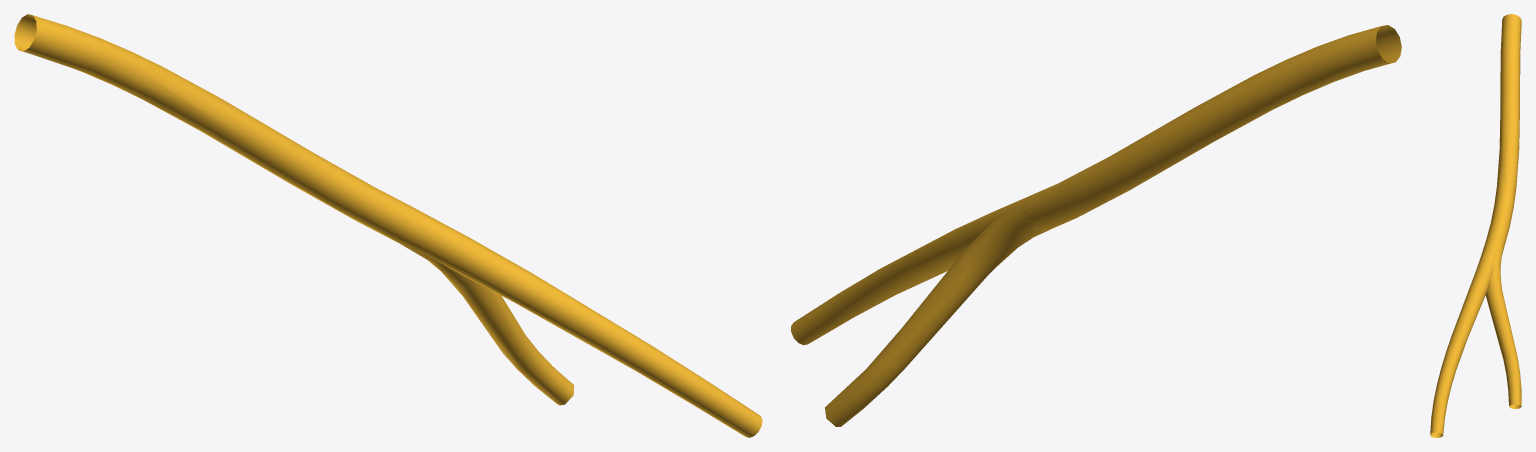
File: nervoso-middle-trunk-of-brachial-plexus-l.glb
The picture shows the model from 3 angles, left to right: view 1: azimuth 30°, elevation 25°; view 2: azimuth 150°, elevation 25°; view 3: azimuth 270°, elevation 25°; orthographic projection. The views are drawn at different scales.
Visible parts, largest first — view 1: Middle trunk of brachial plexus.l, Anterior division of middle trunk of brachial plexus.l, Posterior division of middle trunk of brachial plexus.l; view 2: Middle trunk of brachial plexus.l, Posterior division of middle trunk of brachial plexus.l, Anterior division of middle trunk of brachial plexus.l; view 3: Middle trunk of brachial plexus.l, Anterior division of middle trunk of brachial plexus.l, Posterior division of middle trunk of brachial plexus.l.
Part boxes in pixels (box(x1,y1,x2,y2)): Middle trunk of brachial plexus.l: box(14, 14, 409, 238); Anterior division of middle trunk of brachial plexus.l: box(390, 205, 762, 437); Posterior division of middle trunk of brachial plexus.l: box(392, 206, 574, 405); Middle trunk of brachial plexus.l: box(1026, 25, 1401, 230); Posterior division of middle trunk of brachial plexus.l: box(825, 193, 1049, 426); Anterior division of middle trunk of brachial plexus.l: box(791, 194, 1049, 345); Middle trunk of brachial plexus.l: box(1486, 14, 1521, 243); Anterior division of middle trunk of brachial plexus.l: box(1430, 237, 1504, 437); Posterior division of middle trunk of brachial plexus.l: box(1485, 237, 1521, 408).
Bounding box in the file's own units: 0.0596 × 0.0447 × 0.014.
